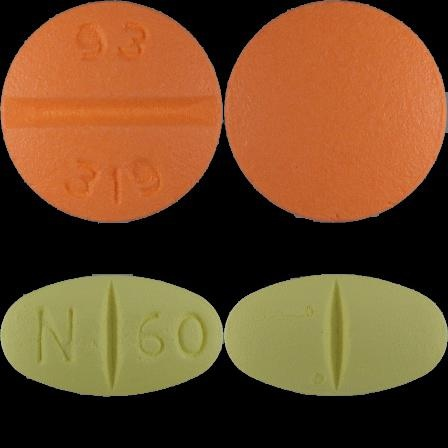0615-8033: (0, 0, 224, 224)
